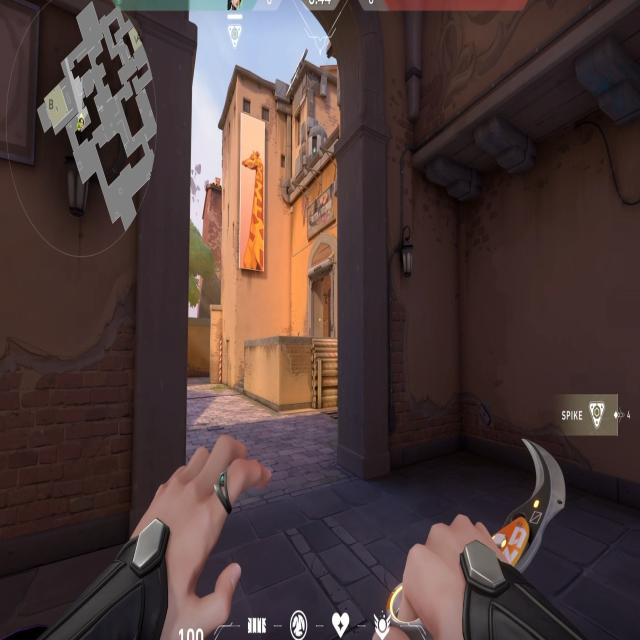B_Cubby: (276, 335, 338, 416)
